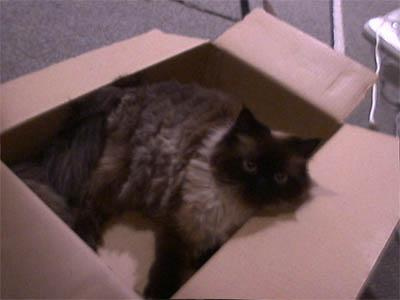cat: (9, 80, 322, 300)
